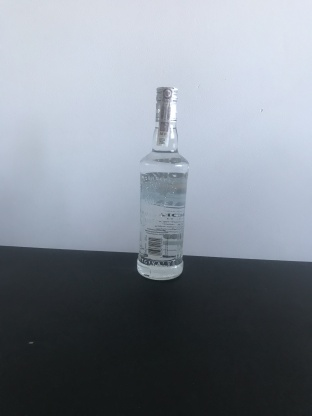nakretka: (153, 83, 179, 126)
